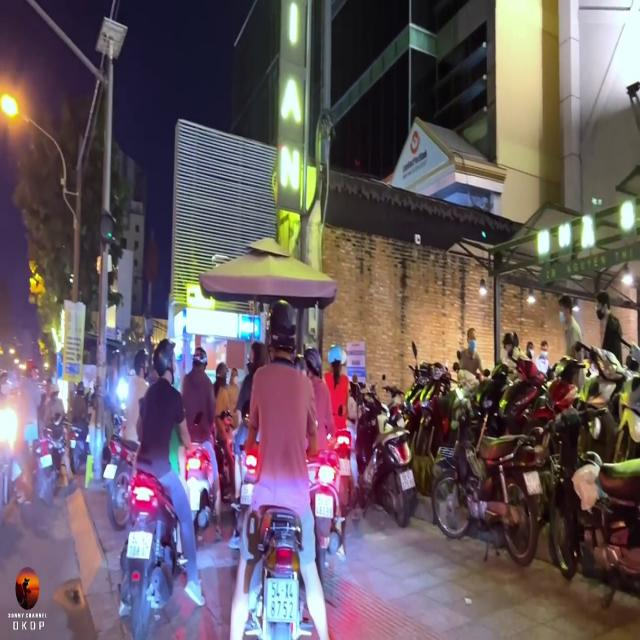bien_trang: (264, 578, 299, 624)
